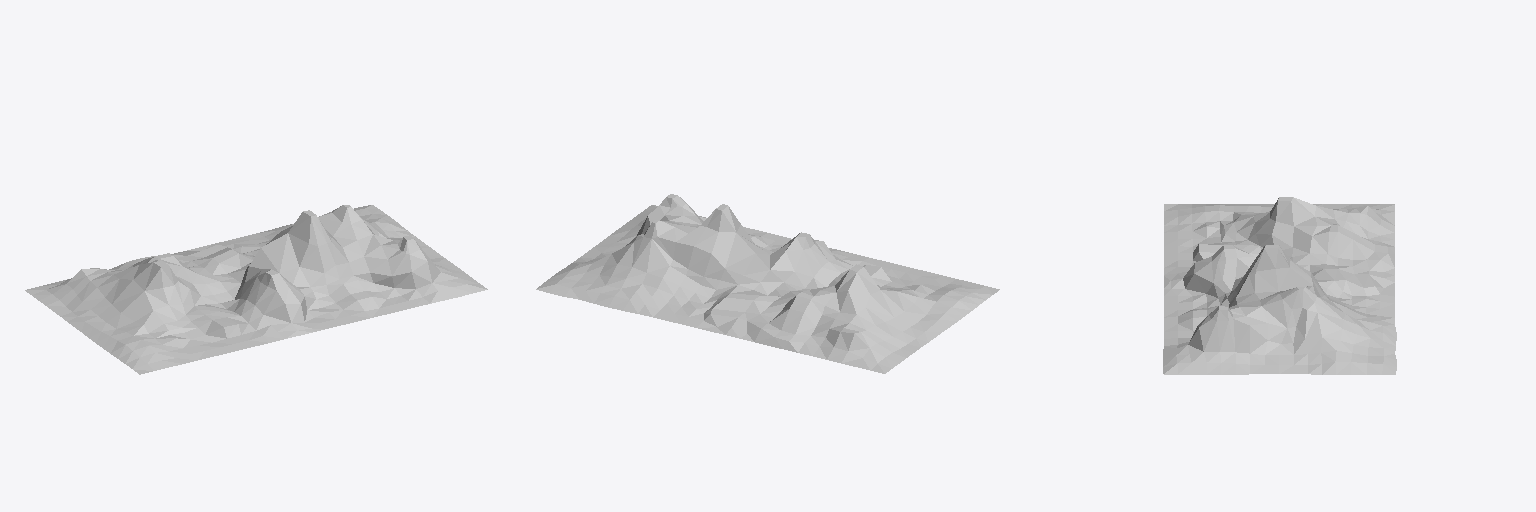
The model's file is SM_Env_Hills_05.obj.
3 renders of one model, left to right at view 1: azimuth 30°, elevation 25°; view 2: azimuth 150°, elevation 25°; view 3: azimuth 270°, elevation 25°, orthographic.
Visible parts, largest first — view 1: SM_Env_Hills_05:Mesh; view 2: SM_Env_Hills_05:Mesh; view 3: SM_Env_Hills_05:Mesh.
Boxes of the visible parts, x1=… form: SM_Env_Hills_05:Mesh: x1=25, y1=205, x2=487, y2=374; SM_Env_Hills_05:Mesh: x1=536, y1=194, x2=999, y2=373; SM_Env_Hills_05:Mesh: x1=1163, y1=197, x2=1396, y2=374.
Bounding box in the file's own units: 62.09 × 11.37 × 35.94.